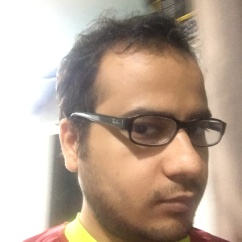glasses: (77, 111, 226, 145)
